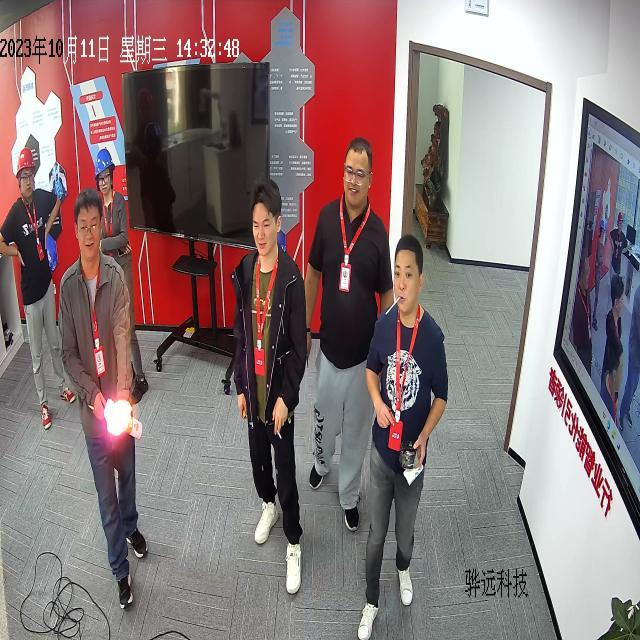Fire: (104, 396, 131, 436)
